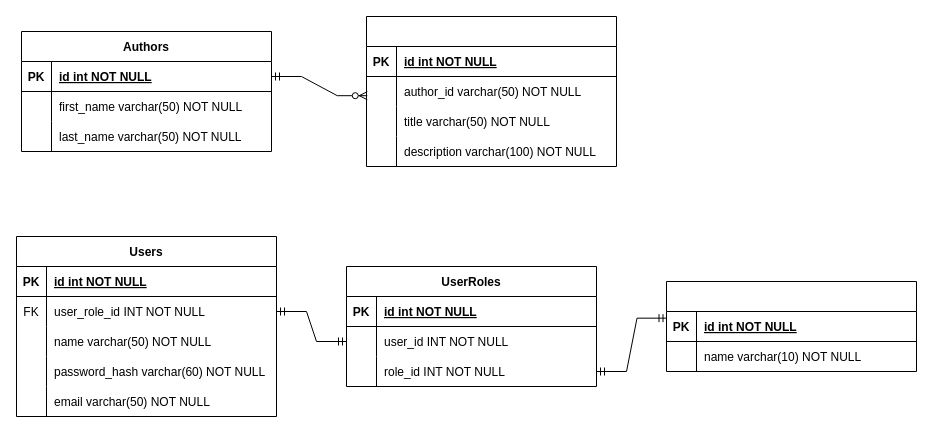
Image size: 933x433. Some labels were removed from this diagram. Here are the shapes that lost their labels. From the top down, the box of each, then its label:
(366, 16, 616, 166): Books
(666, 280, 916, 372): Roles
